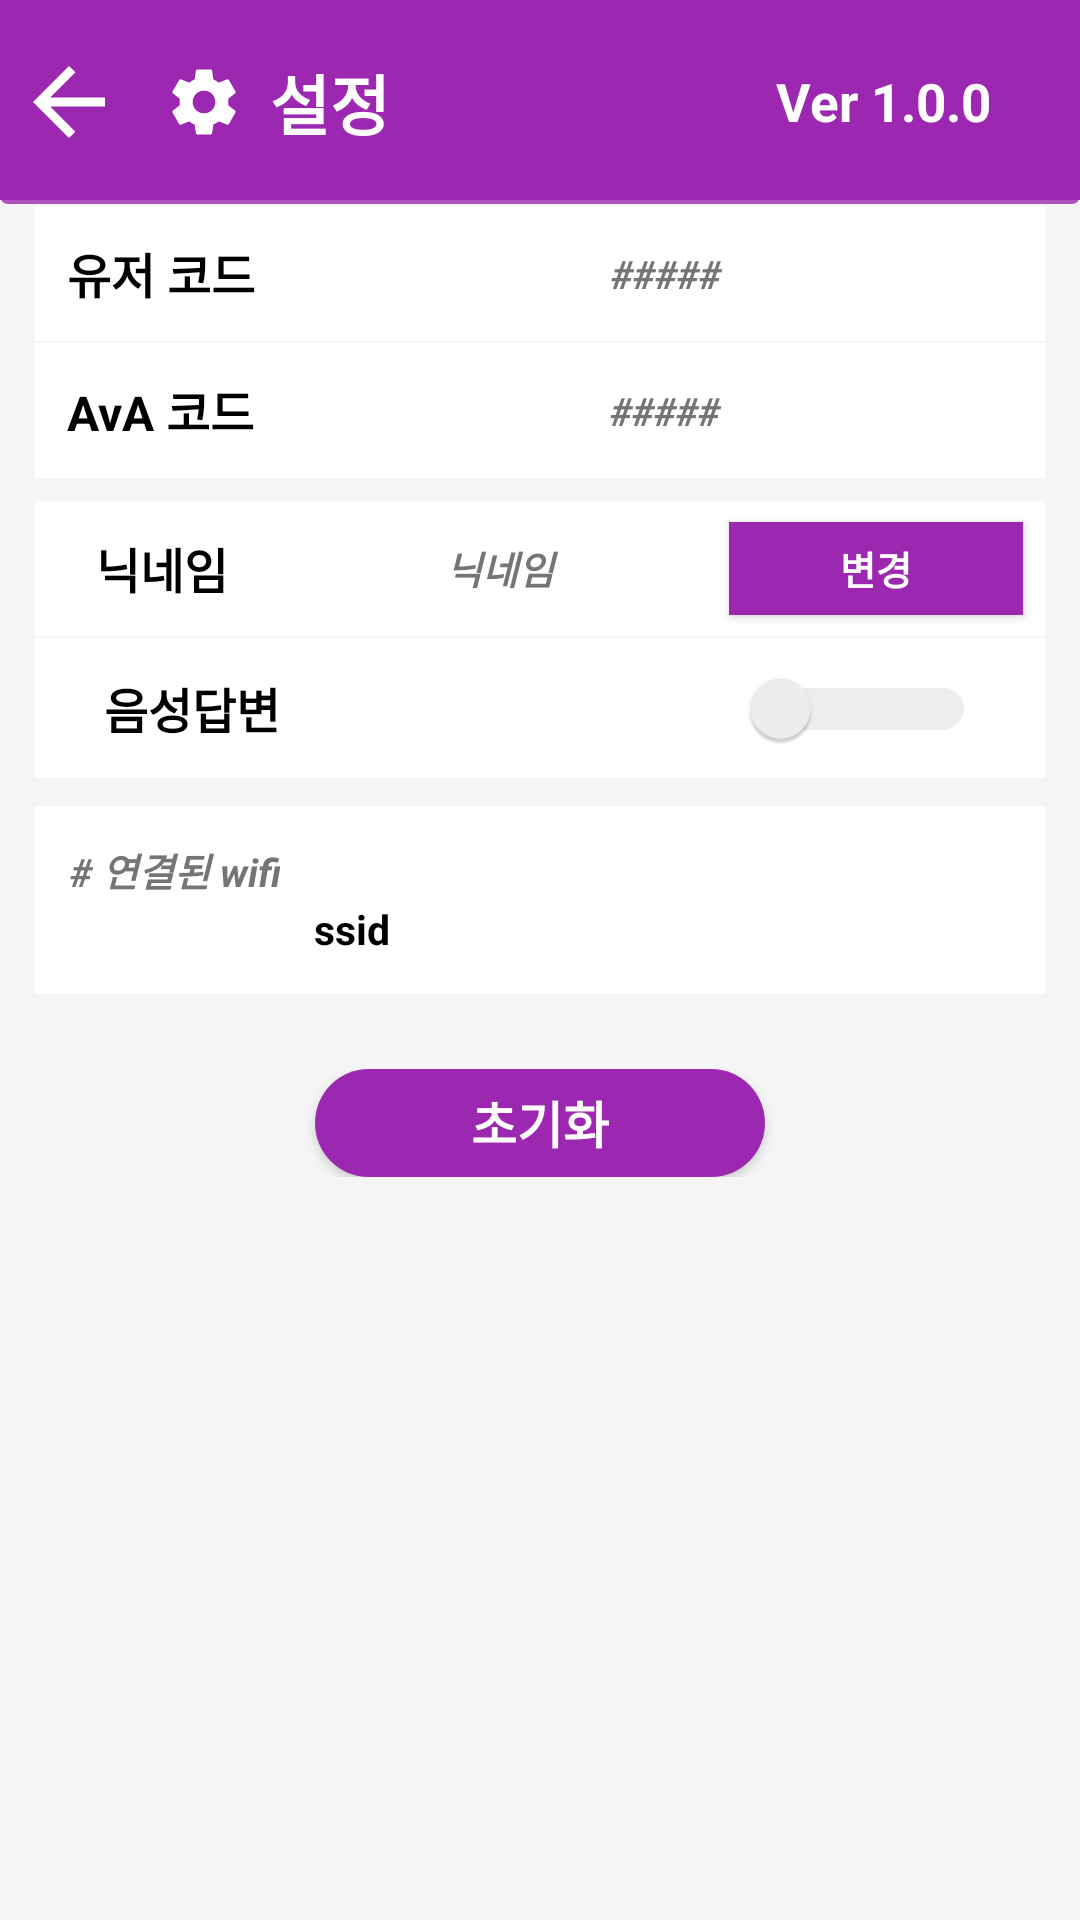

Screen size 1080w x 1920h. Icon name, then its center in pixels as (x=x, y=y):
arrow back maincolor: (x=69, y=102)
settings maincolor: (x=204, y=102)
